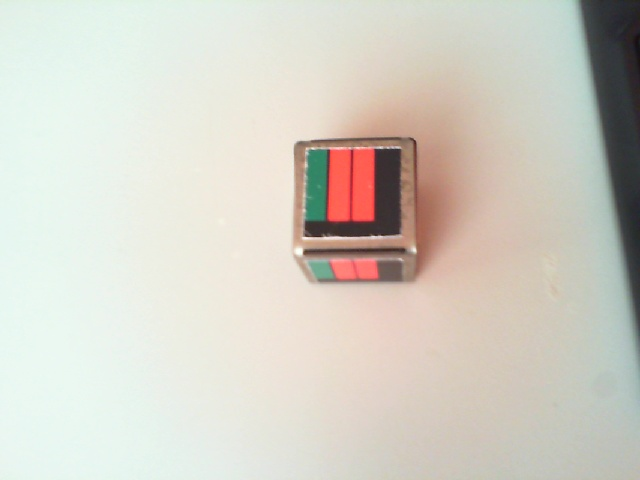square: (305, 148, 401, 237)
